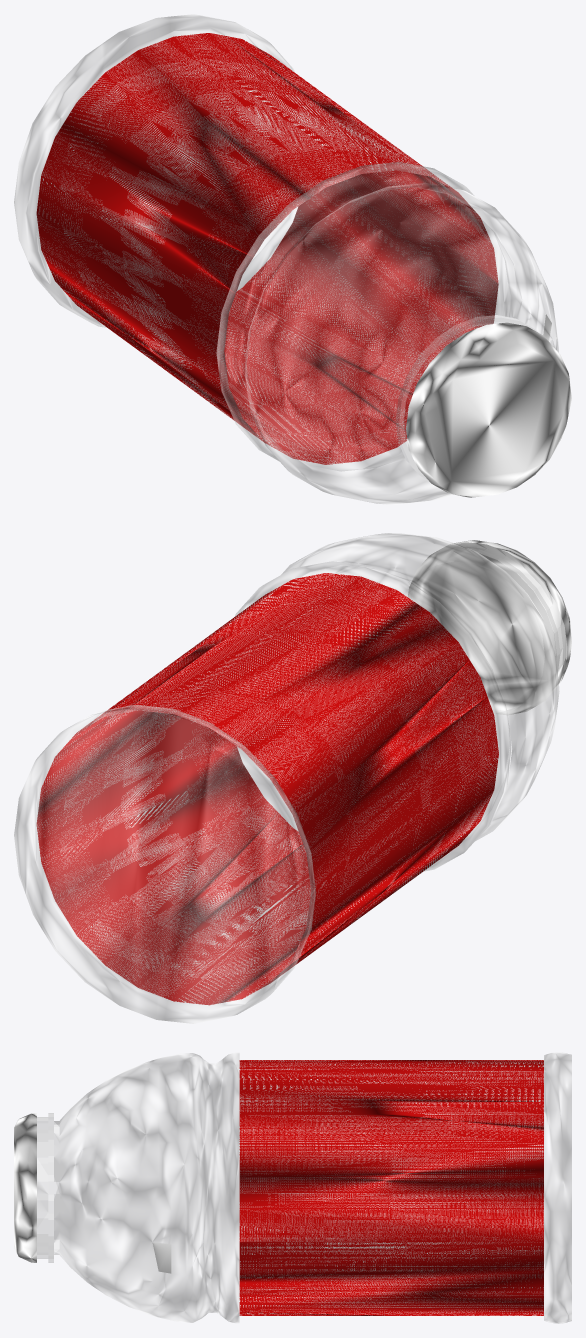
Rendered from model_align.obj.
The picture shows the model from 3 angles, top to bottom: view 1: azimuth 30°, elevation 25°; view 2: azimuth 150°, elevation 25°; view 3: azimuth 270°, elevation 25°; orthographic projection. The views are drawn at different scales.
Bounding box in the file's own units: 0.0658 × 0.0659 × 0.1347.
